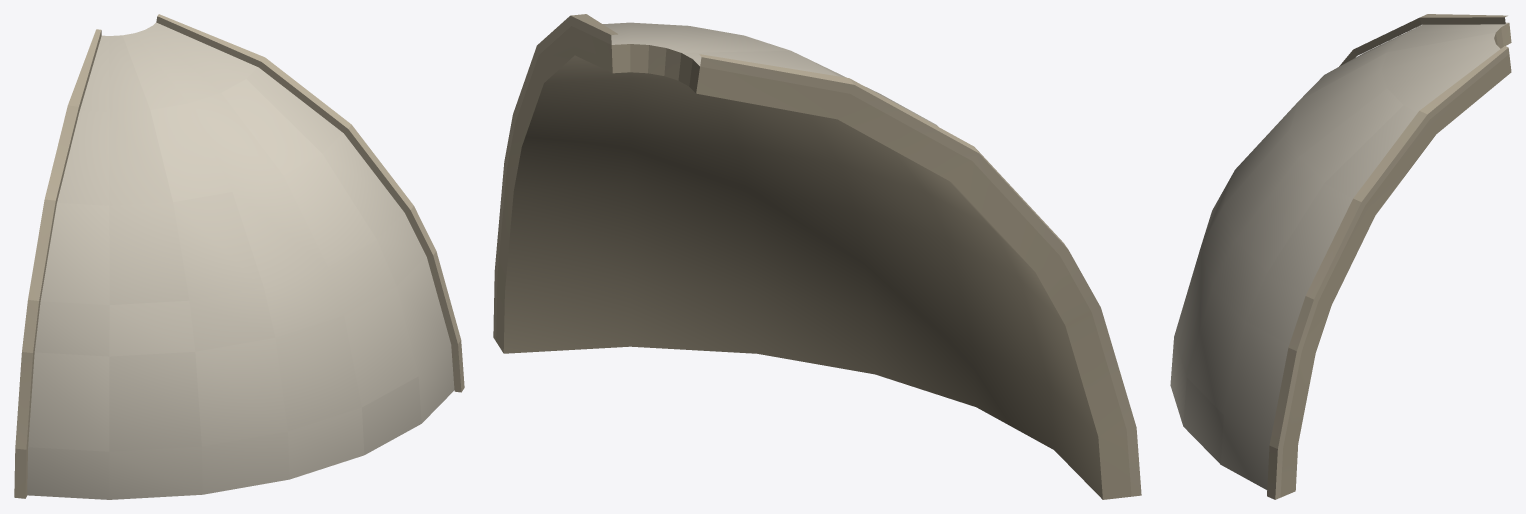
The model's file is dome.panel_4.plaster.glb.
3 views of the same model, side by side, from view 1: azimuth 30°, elevation 25°; view 2: azimuth 150°, elevation 25°; view 3: azimuth 270°, elevation 25° (orthographic). The views are drawn at different scales.
Visible parts, largest first — view 1: dome_panel_4_plaster; view 2: dome_panel_4_plaster; view 3: dome_panel_4_plaster.
Boxes of the visible parts, <box> form: dome_panel_4_plaster: <box>14,14,464,499</box>; dome_panel_4_plaster: <box>493,14,1141,499</box>; dome_panel_4_plaster: <box>1170,14,1511,499</box>.
Size of what is drawn, in the model's own units: 5.05 by 3.63 by 3.18.
